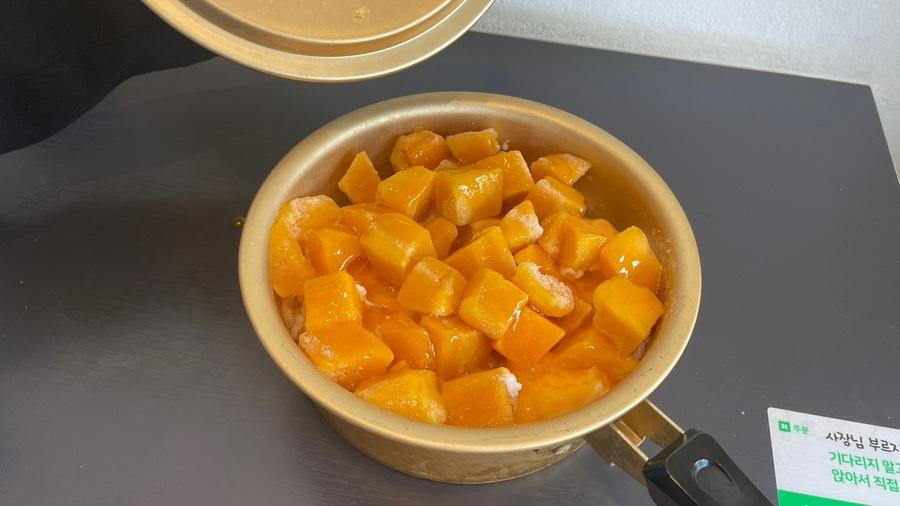Lunch Box: (239, 93, 770, 505), (490, 307, 628, 506)
